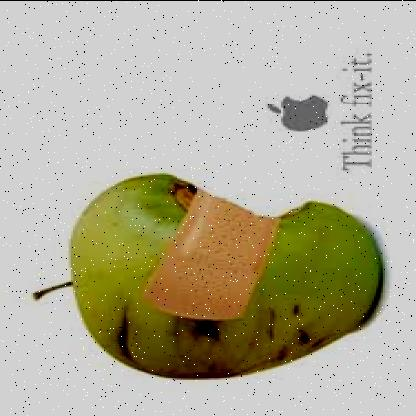damaged_apple: (80, 172, 380, 377)
